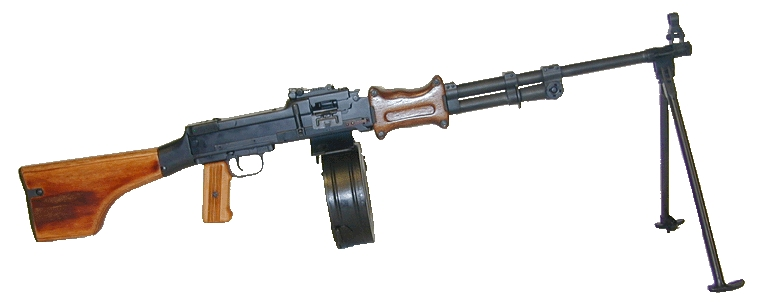rifle: (10, 30, 736, 270)
